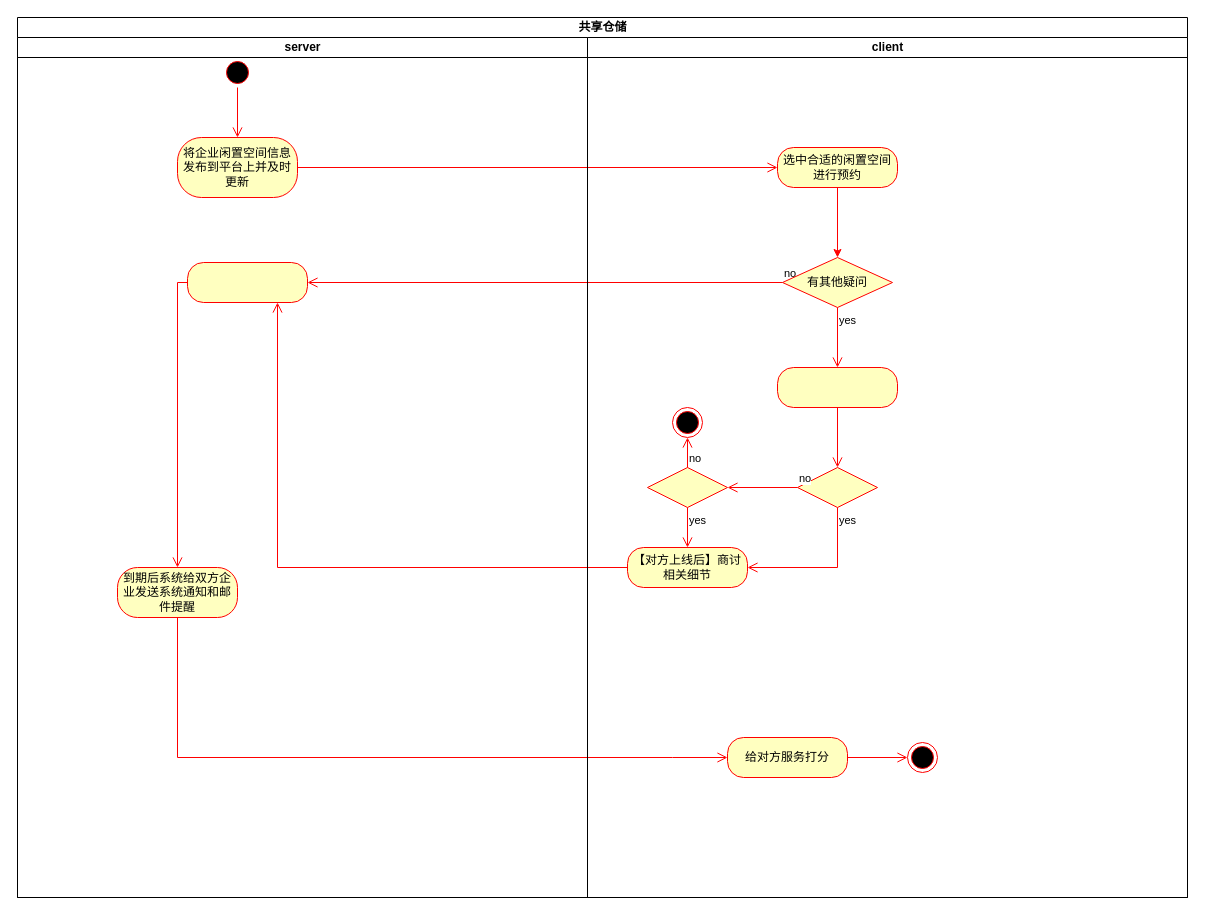
Some shapes in this 1205 by 915 pixel diagram are drawn without their labels. The shapes that lost their labels are listed below. From the top down, each one's box as (x1, y1, x2, y2) in pixels, then its label:
(186, 262, 308, 302): 双方签订协议
(776, 366, 898, 408): 与对方企业进行商谈，交流相关细节
(646, 466, 728, 508): 愿意等待
(796, 466, 878, 508): 对方在线
